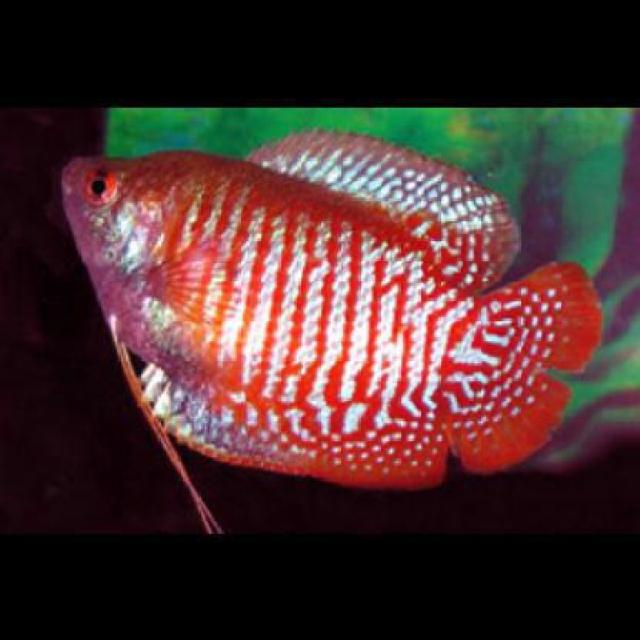Gourami: (55, 124, 610, 484)
